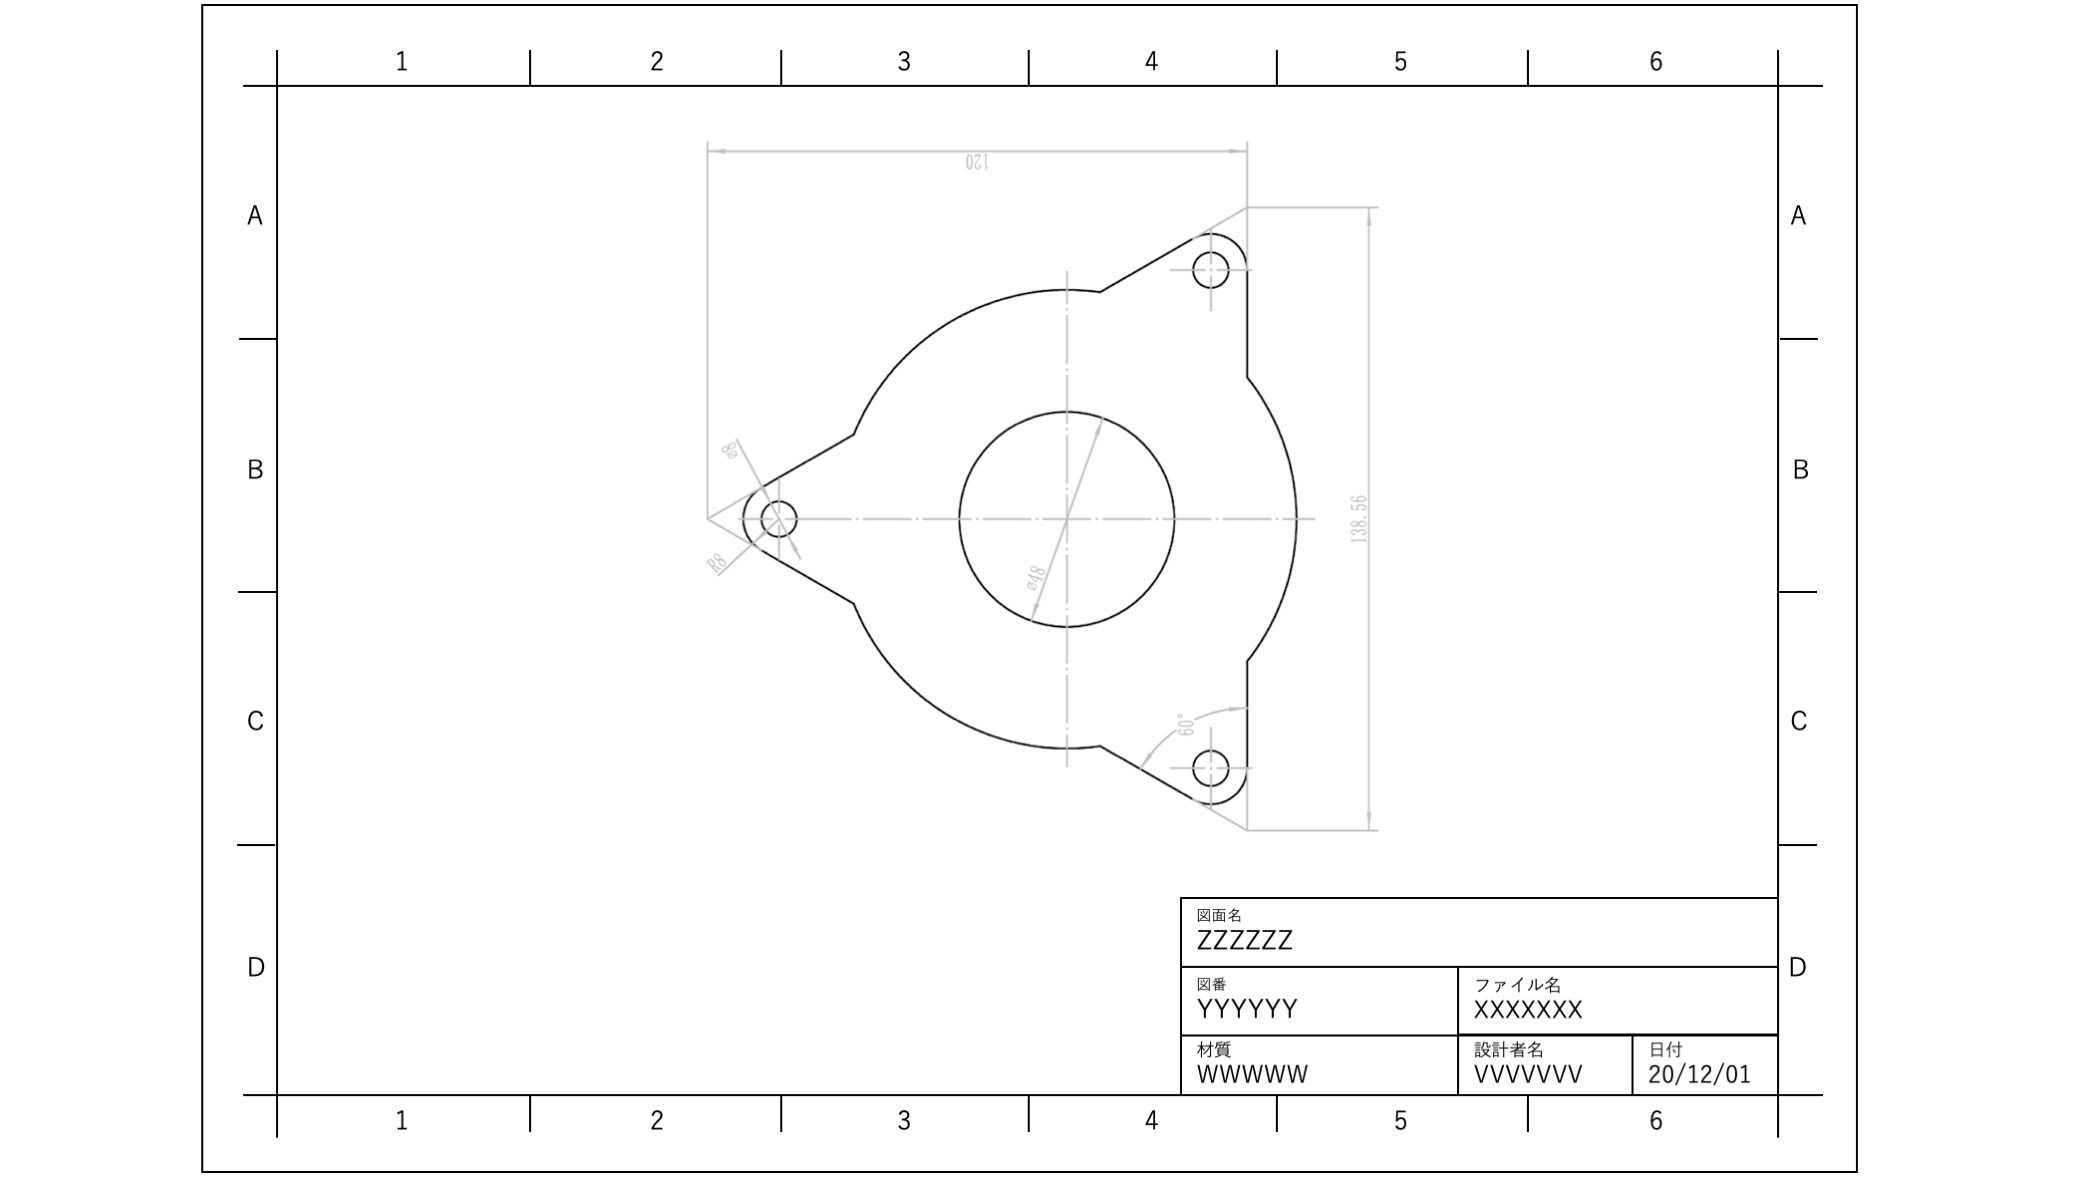circle: (958, 405, 1177, 632), (1183, 727, 1229, 797), (754, 485, 805, 542), (1183, 239, 1226, 296)
